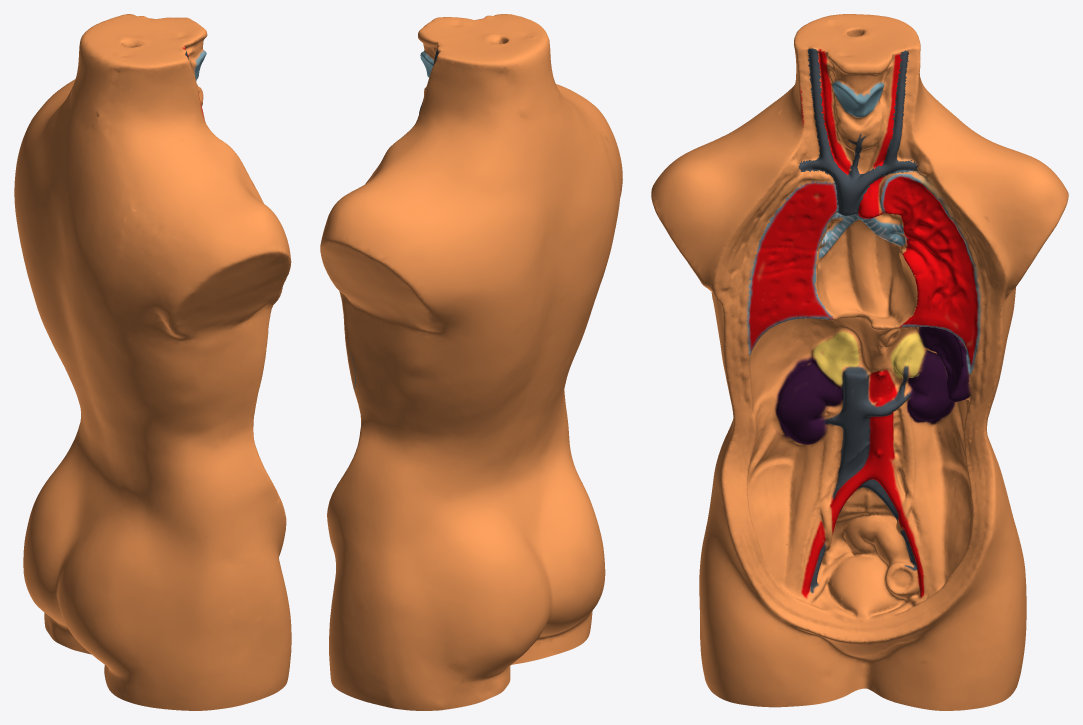
File: jintaimokei3.0MB.glb
3 views of the same model, side by side, from view 1: azimuth 30°, elevation 25°; view 2: azimuth 150°, elevation 25°; view 3: azimuth 270°, elevation 25° (orthographic).
Parts seen in each view (by area): view 1: 人体模型; view 2: 人体模型; view 3: 人体模型.
Part boxes in pixels (bbox=[...]): 人体模型: bbox=[14, 14, 291, 710]; 人体模型: bbox=[320, 14, 622, 710]; 人体模型: bbox=[651, 14, 1068, 710].
Size of the model in its own units: 105 by 327 by 198.
1 material, 1 textured.
